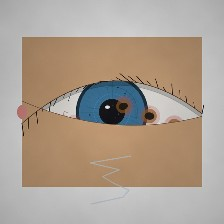foreign_body_visible: (153, 108, 196, 143)
